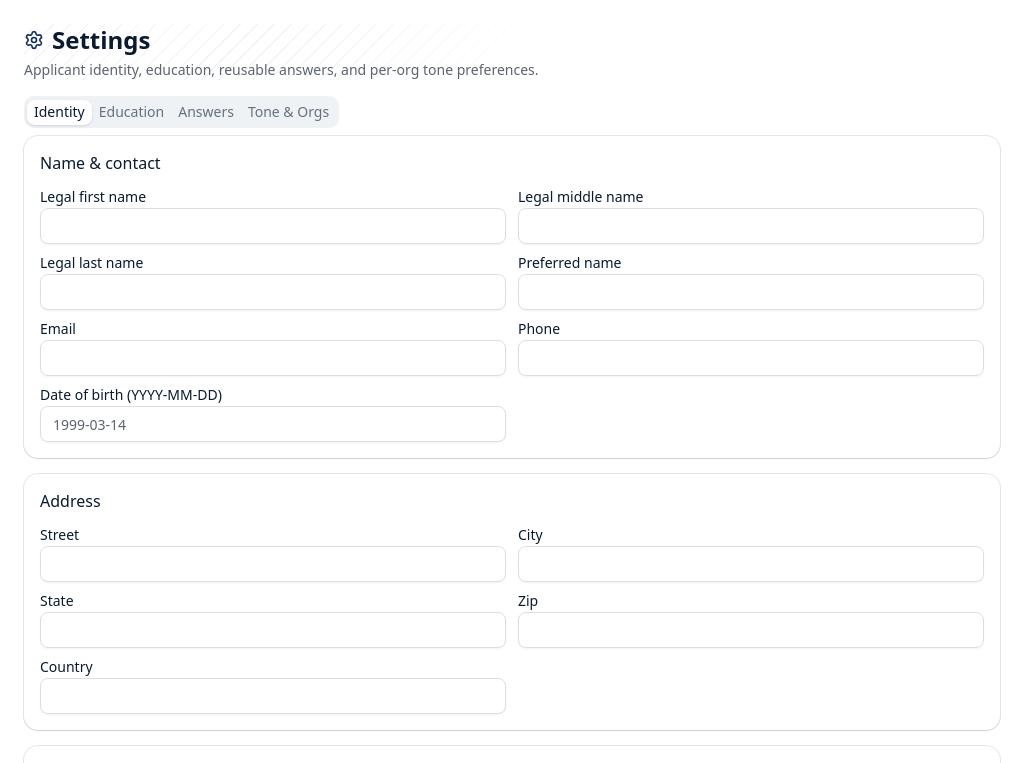
Test: Settings page › switches to the Education tab and shows the add-education control
Click the tab "Education": (132, 112) [92, 100, 171, 124]
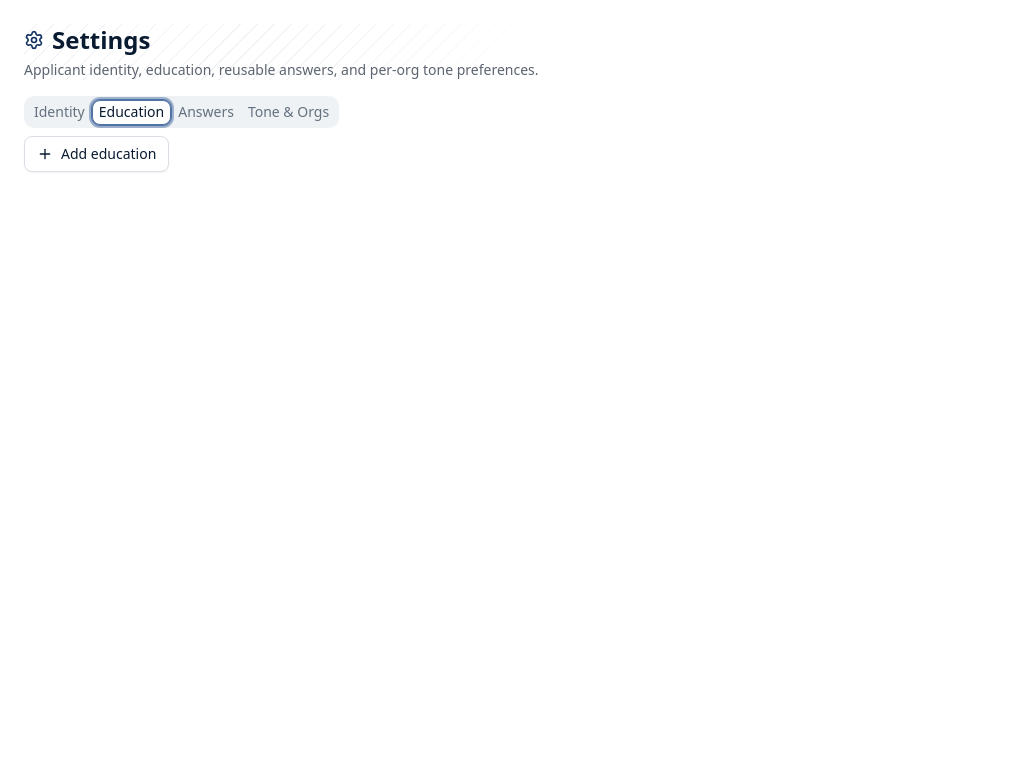
Now the button "Add education" is shown, box [24, 136, 169, 172]
